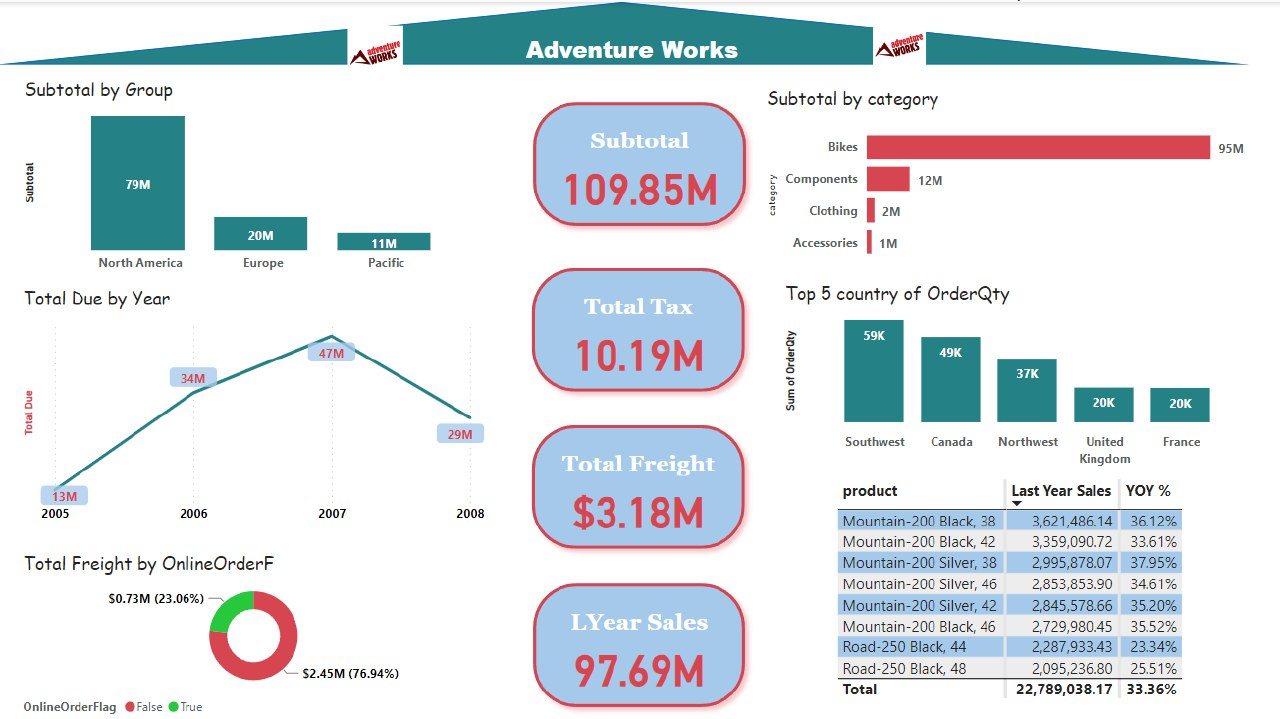

The dashboard page shown, as its layout file describes it:
{"tool":"powerbi","page":{"name":"Page 2","canvas":[1280,720],"ordinal":1},"visuals":[{"type":"cardVisual","fields":{"Data":["Dax Measure.Subtotal"]},"box":[518.6,83,246.2,157.7],"z":0},{"type":"cardVisual","fields":{"Data":["Dax Measure.Total Tax"]},"box":[517.2,247.5,246.2,157.7],"z":1000},{"type":"cardVisual","fields":{"Data":["Dax Measure.Total Freight"]},"box":[517.2,405.2,246.2,157.7],"z":2000},{"type":"cardVisual","fields":{"Data":["Dax Measure.Last Year Sales"]},"box":[518.3,562.3,245.7,157.7],"z":3000},{"type":"clusteredBarChart","fields":{"Y":["Dax Measure.Subtotal"],"Category":["Product.category"]},"box":[763.4,83,499.2,186.7],"z":4000},{"type":"columnChart","fields":{"Y":["Dax Measure.Subtotal"],"Category":["Territory.Group"]},"box":[23.5,74.7,468.8,203.3],"z":5000},{"type":"lineChart","fields":{"Y":["Dax Measure.Total Due"],"Category":["Dates.Date.Variation.Date Hierarchy.Year"]},"box":[22,282.4,469.4,245.7],"z":6000},{"type":"donutChart","title":"Total Freight by OnlineOrderF","fields":{"Category":["sales - fact.OnlineOrderFlag"],"Y":["Dax Measure.Total Freight"]},"box":[22,546.4,469.4,173.6],"z":7000},{"type":"tableEx","fields":{"Values":["Product.product","Dax Measure.Last Year Sales","Dax Measure.YOY %"]},"box":[832.2,470.3,448.3,242.7],"z":8000},{"type":"columnChart","title":"Top 5 country of OrderQty","fields":{"Y":["Sum(sales - fact.OrderQty)"],"Category":["Territory.country"]},"box":[781.3,278,466,192.2],"z":9000},{"type":"shape","box":[0,0,1247.4,62.2],"z":10000},{"type":"image","box":[181.2,18,394.1,65],"z":11000},{"type":"image","box":[749.5,12.4,300.1,62.2],"z":12000}]}

Visuals, with their boxes in screenshot pixels (x1, y1, x2, y2), scaled from the page's 1280x720 canvas onto the 1280x719 screenshot:
cardVisual - Dax Measure.Subtotal: <bbox>519, 83, 765, 240</bbox>
cardVisual - Dax Measure.Total Tax: <bbox>517, 247, 763, 405</bbox>
cardVisual - Dax Measure.Total Freight: <bbox>517, 405, 763, 562</bbox>
cardVisual - Dax Measure.Last Year Sales: <bbox>518, 562, 764, 718</bbox>
clusteredBarChart - Dax Measure.Subtotal x Product.category: <bbox>763, 83, 1263, 269</bbox>
columnChart - Dax Measure.Subtotal x Territory.Group: <bbox>24, 75, 492, 278</bbox>
lineChart - Dax Measure.Total Due x Dates.Date.Variation.Date Hierarchy.Year: <bbox>22, 282, 491, 527</bbox>
"Total Freight by OnlineOrderF" donutChart: <bbox>22, 546, 491, 718</bbox>
tableEx - Product.product x Dax Measure.Last Year Sales: <bbox>832, 470, 1279, 712</bbox>
"Top 5 country of OrderQty" columnChart: <bbox>781, 278, 1247, 470</bbox>
shape: <bbox>0, 0, 1247, 62</bbox>
image: <bbox>181, 18, 575, 83</bbox>
image: <bbox>750, 12, 1050, 74</bbox>
